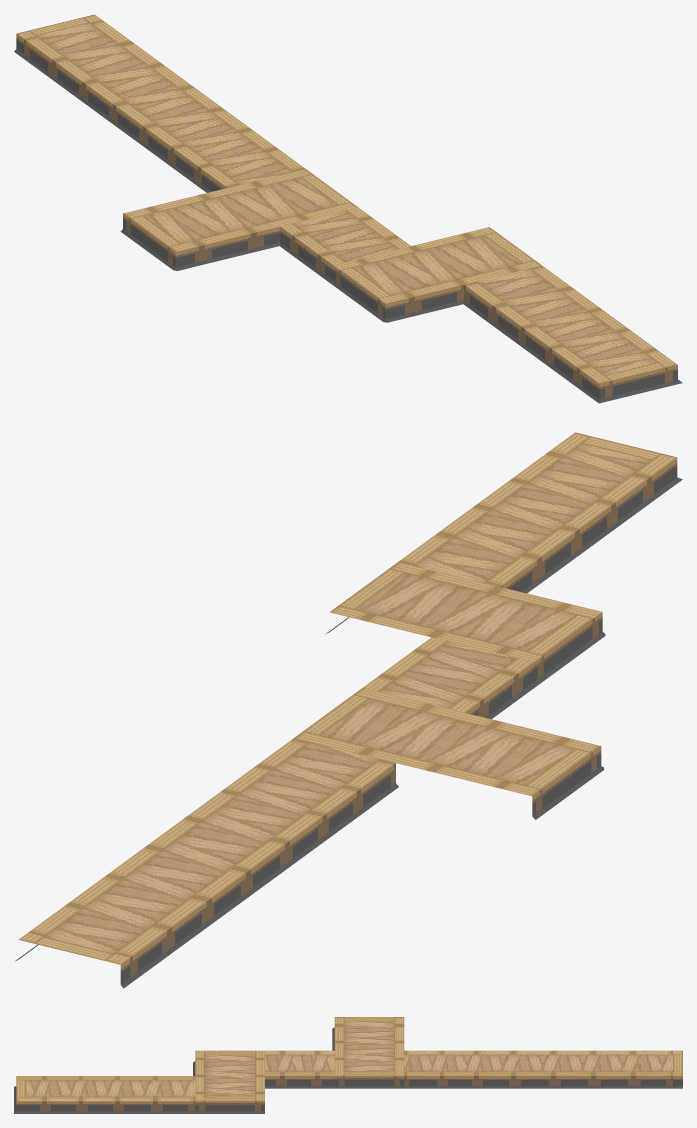
3 renders of one model, top to bottom at view 1: azimuth 30°, elevation 25°; view 2: azimuth 150°, elevation 25°; view 3: azimuth 270°, elevation 25°, orthographic. The views are drawn at different scales.
Size of the model in its own units: 10.22 by 0.6455 by 33.62.
4 materials, 4 textured.
